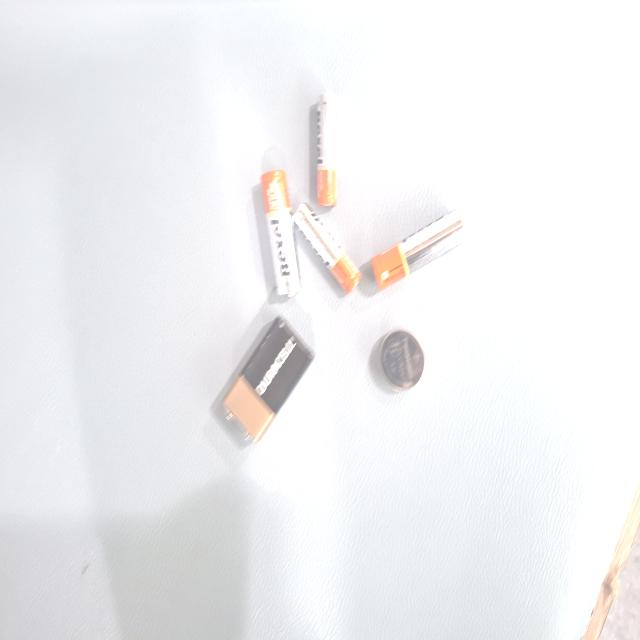9V: (236, 434, 334, 558)
AA: (155, 224, 219, 360), (128, 452, 224, 506)
AAA: (150, 372, 220, 465), (70, 403, 156, 433)
COIN: (245, 282, 295, 348)
